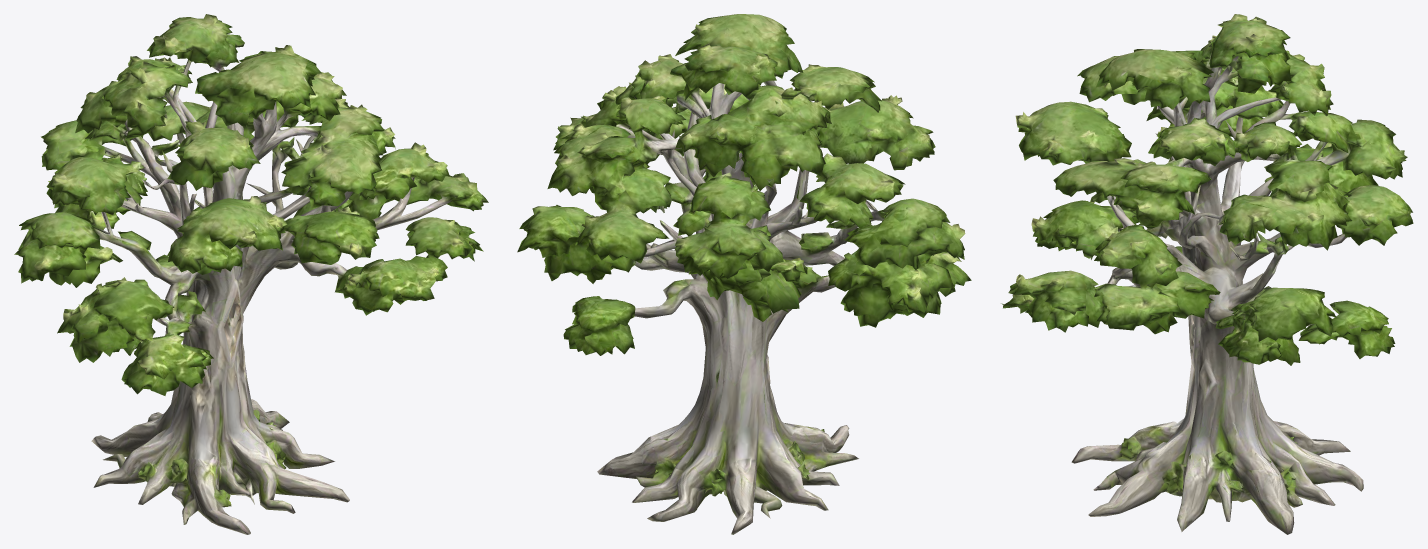
File: mallorn-tree-2.glb
The picture shows the model from 3 angles, left to right: view 1: azimuth 30°, elevation 25°; view 2: azimuth 150°, elevation 25°; view 3: azimuth 270°, elevation 25°; orthographic projection. The views are drawn at different scales.
Size of the model in its own units: 1.91 by 1.85 by 1.53.
Materials: 1 (1 with a texture image).
